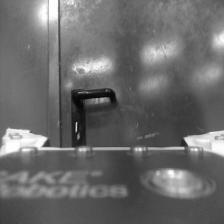Door Handle: (70, 87, 119, 103)
Lock: (72, 120, 84, 142)
